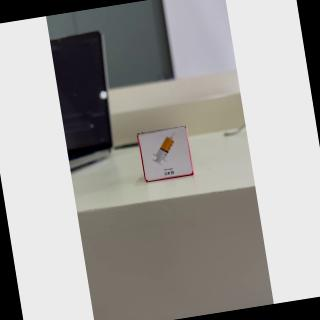Syringe: (139, 128, 196, 183)
